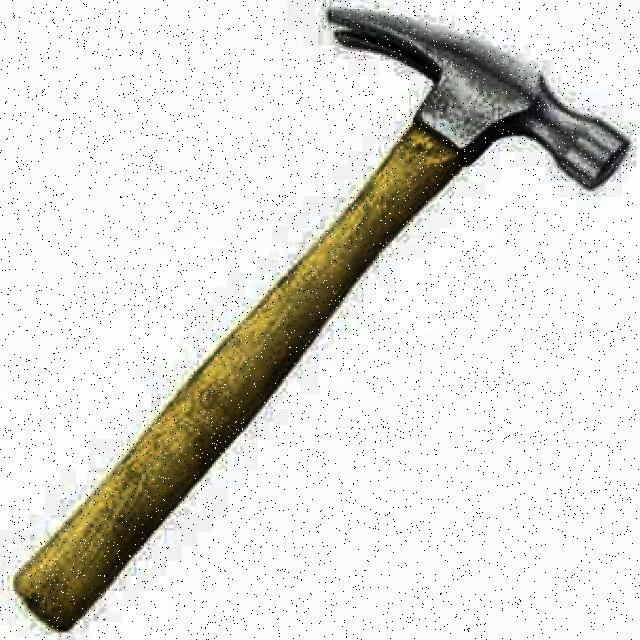hammer: (19, 7, 631, 629)
